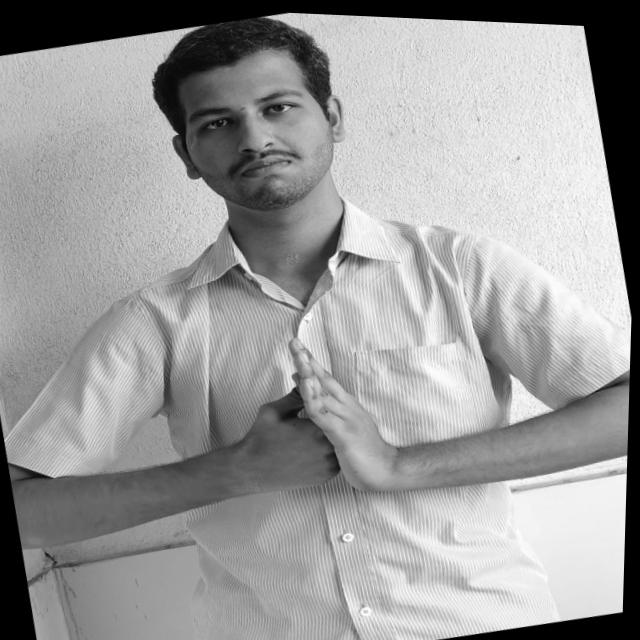Well Done: (216, 316, 398, 521)
